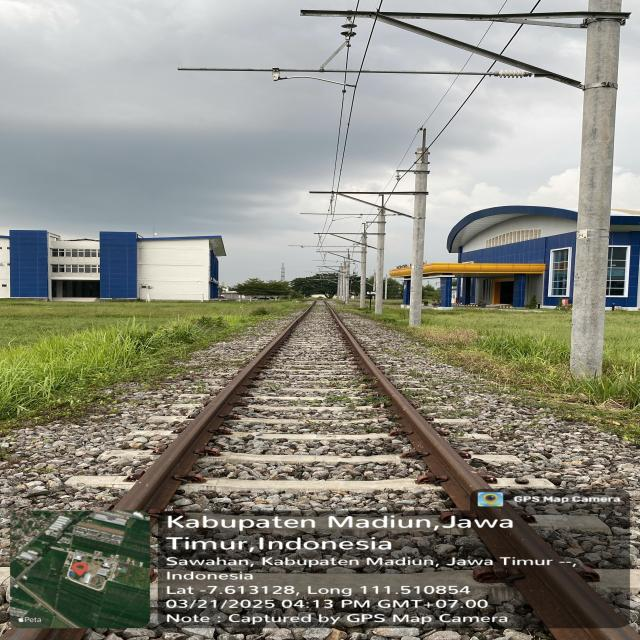rail-detection: (330, 308, 640, 640), (114, 305, 314, 514)
